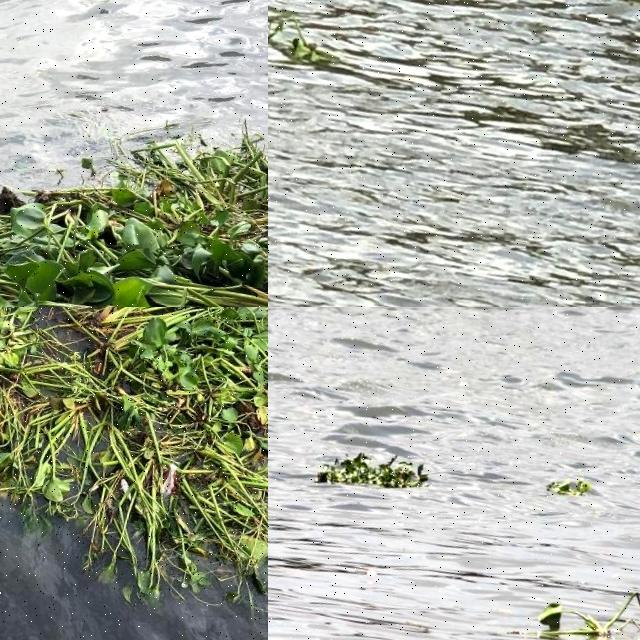water-hyacinth: (1, 308, 269, 599), (1, 120, 265, 308), (526, 571, 640, 640), (317, 440, 432, 507), (269, 1, 342, 68), (537, 469, 594, 504), (1, 308, 33, 339)
